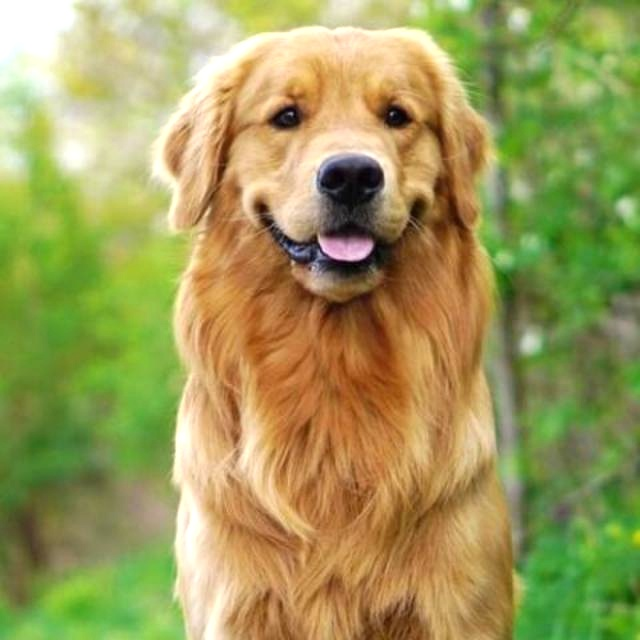dog: (146, 2, 576, 640)
